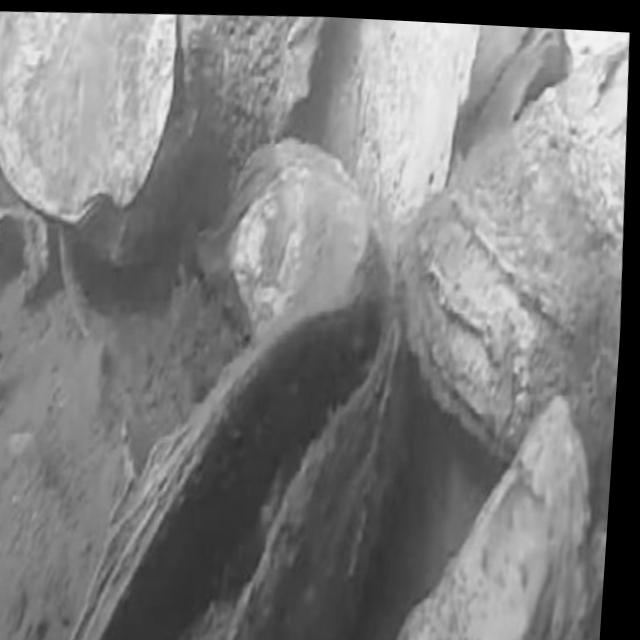Oyster-Indeterminate: (397, 38, 629, 473), (69, 14, 326, 271), (292, 17, 480, 331), (396, 401, 591, 640), (0, 11, 184, 219), (198, 147, 374, 342)
Oyster-Open: (66, 263, 401, 640)
